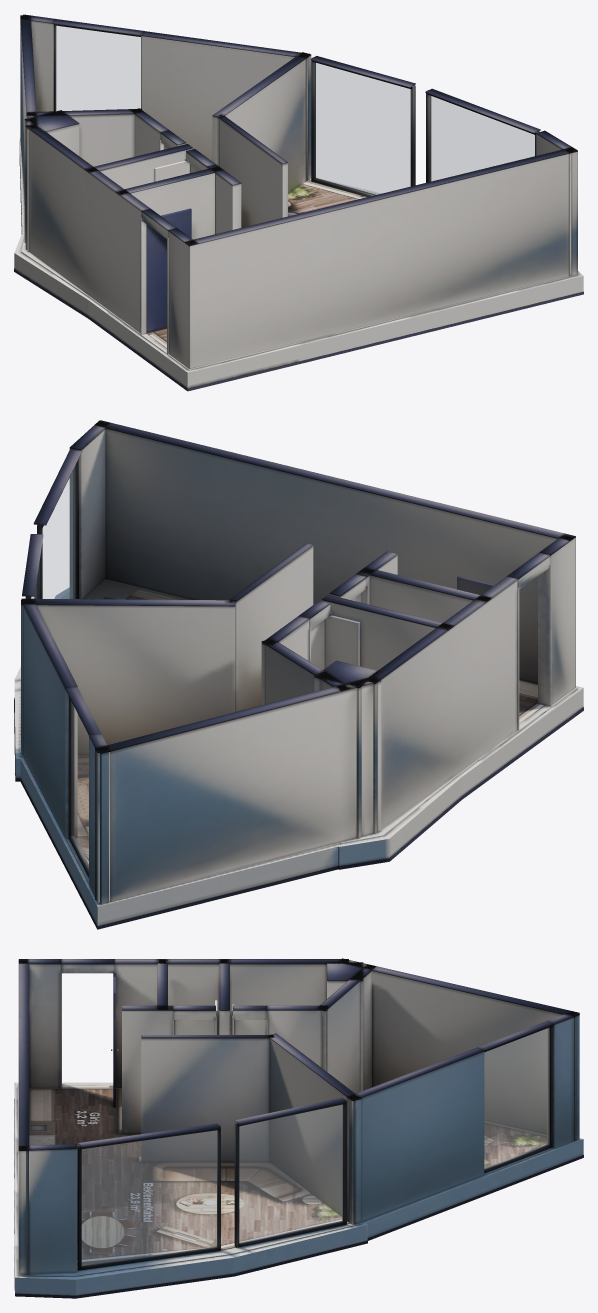
3 renders of one model, top to bottom at view 1: azimuth 30°, elevation 25°; view 2: azimuth 150°, elevation 25°; view 3: azimuth 270°, elevation 25°, orthographic. The views are drawn at different scales.
Parts seen in each view (by area): view 1: plan, glass1_m, glass0_m, glass2_m; view 2: plan, glass2_m, glass0_m; view 3: plan, glass2_m, glass1_m, glass0_m.
Part boxes in pixels (x1=…): plan: x1=14, y1=14, x2=583, y2=391; glass1_m: x1=315, y1=63, x2=410, y2=194; glass0_m: x1=55, y1=26, x2=140, y2=110; glass2_m: x1=430, y1=96, x2=534, y2=181; plan: x1=14, y1=420, x2=583, y2=929; glass2_m: x1=43, y1=466, x2=75, y2=598; glass0_m: x1=71, y1=702, x2=88, y2=868; plan: x1=14, y1=958, x2=583, y2=1298; glass2_m: x1=82, y1=1130, x2=217, y2=1266; glass1_m: x1=239, y1=1105, x2=342, y2=1242; glass0_m: x1=484, y1=1028, x2=549, y2=1168.
Bounding box in the file's own units: 7.84 × 2.62 × 9.39.
2 materials, 1 textured.
